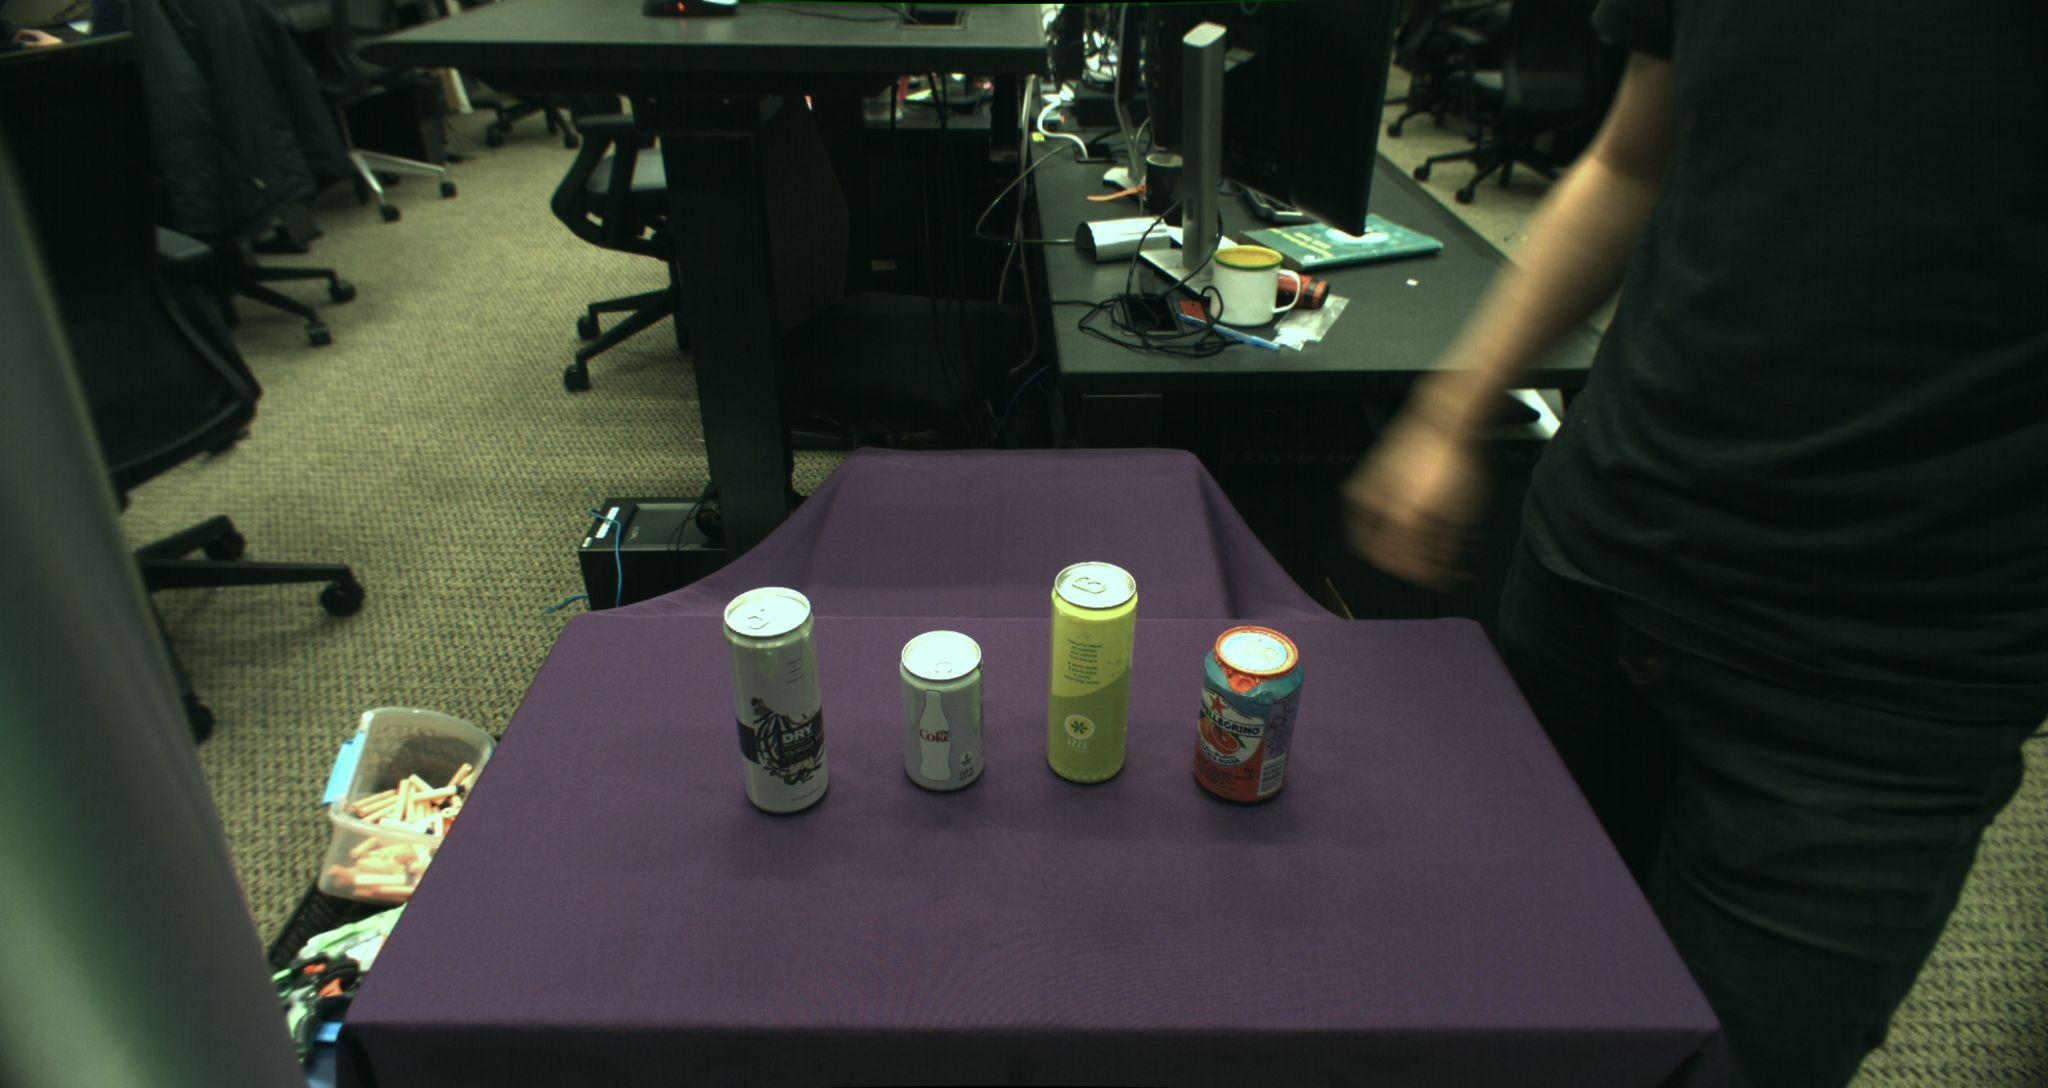can_diet_coke_small: (898, 629, 986, 793)
can_dry_sparkling_vanilla_bean: (723, 584, 830, 816)
can_izze_fusions_lemon_lime: (1046, 560, 1139, 784)
can_sanpellegrino_blood_orange: (1193, 626, 1304, 803)
